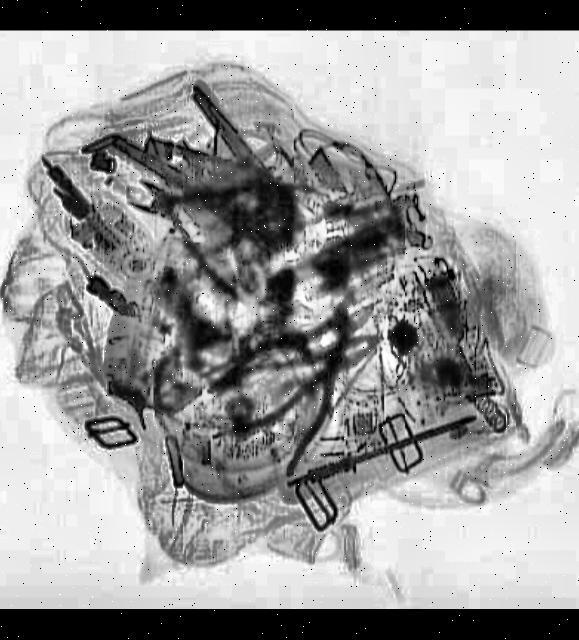Pliers: (108, 139, 288, 304), (211, 316, 388, 441)
